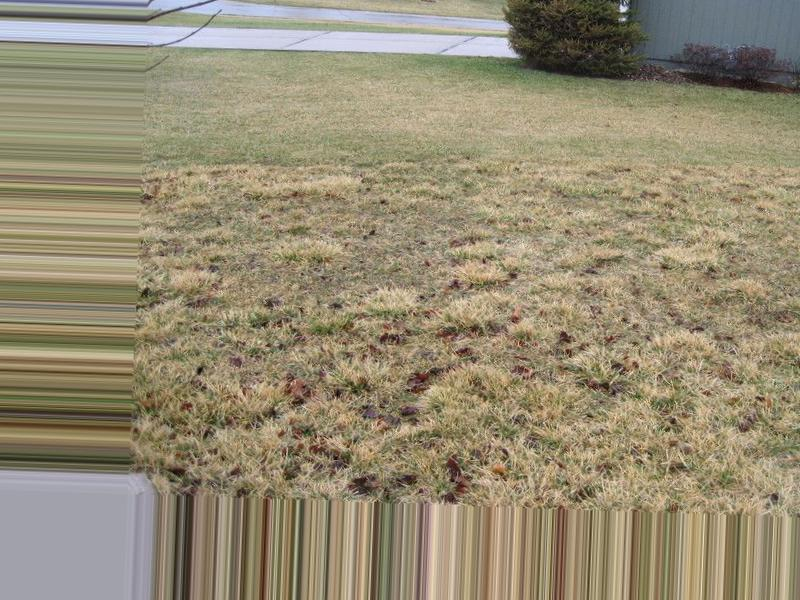patch: (147, 177, 469, 479)
